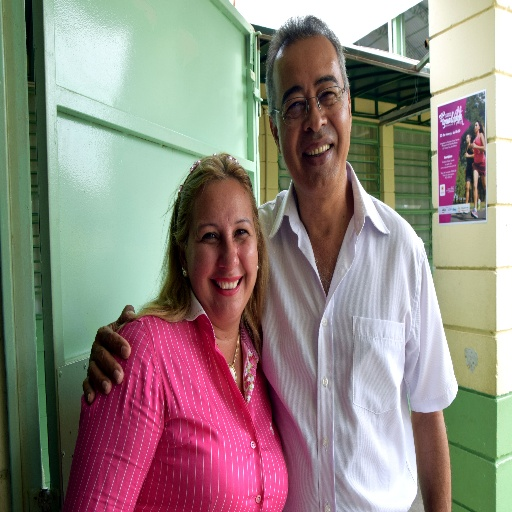hand: (81, 332, 125, 404)
